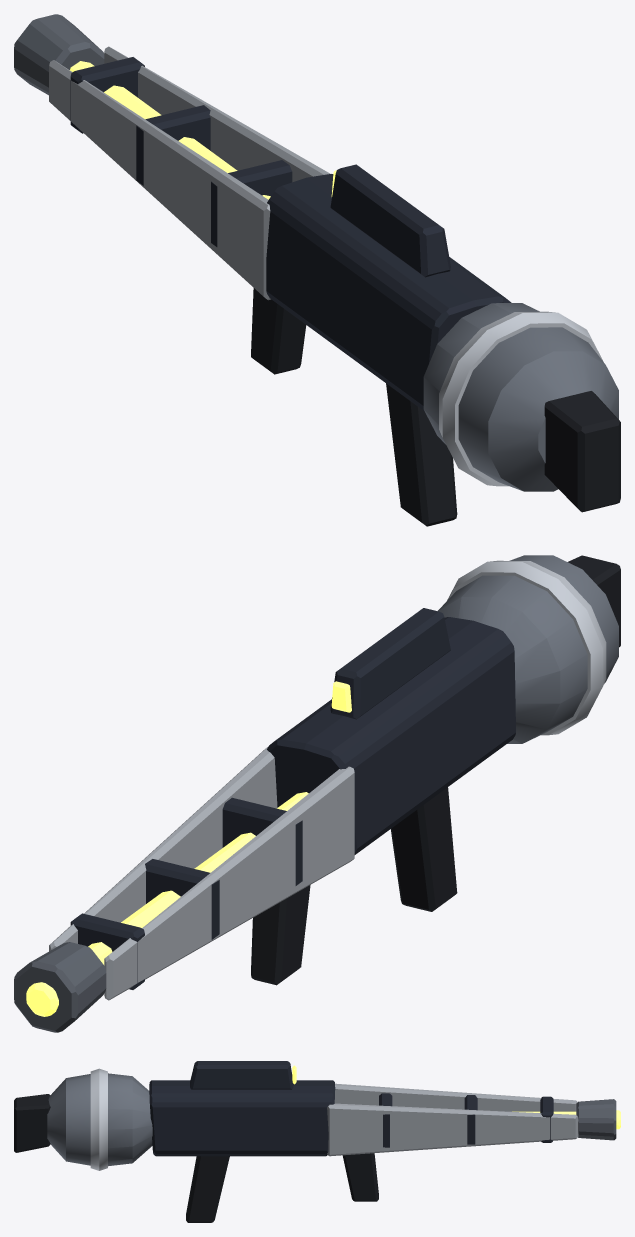
File: w_a_special_charge_rifle.glb
3 renders of one model, top to bottom at view 1: azimuth 30°, elevation 25°; view 2: azimuth 150°, elevation 25°; view 3: azimuth 270°, elevation 25°, orthographic. The views are drawn at different scales.
Visible parts, largest first — view 1: weapon_body, weapon_metal, weapon; view 2: weapon_body, weapon_metal, weapon; view 3: weapon_body, weapon_metal, weapon.
Boxes of the visible parts, x1,y1,x2,y2 form: weapon_body: (14,14,620,526); weapon_metal: (423,303,618,491); weapon: (70,61,336,199); weapon_body: (14,555,620,1032); weapon_metal: (438,555,618,743); weapon: (26,681,351,1016); weapon_body: (14,1061,616,1222); weapon_metal: (47,1068,152,1170); weapon: (292,1065,620,1129).
Bounding box in the file's own units: 1.32 × 2.27 × 8.
